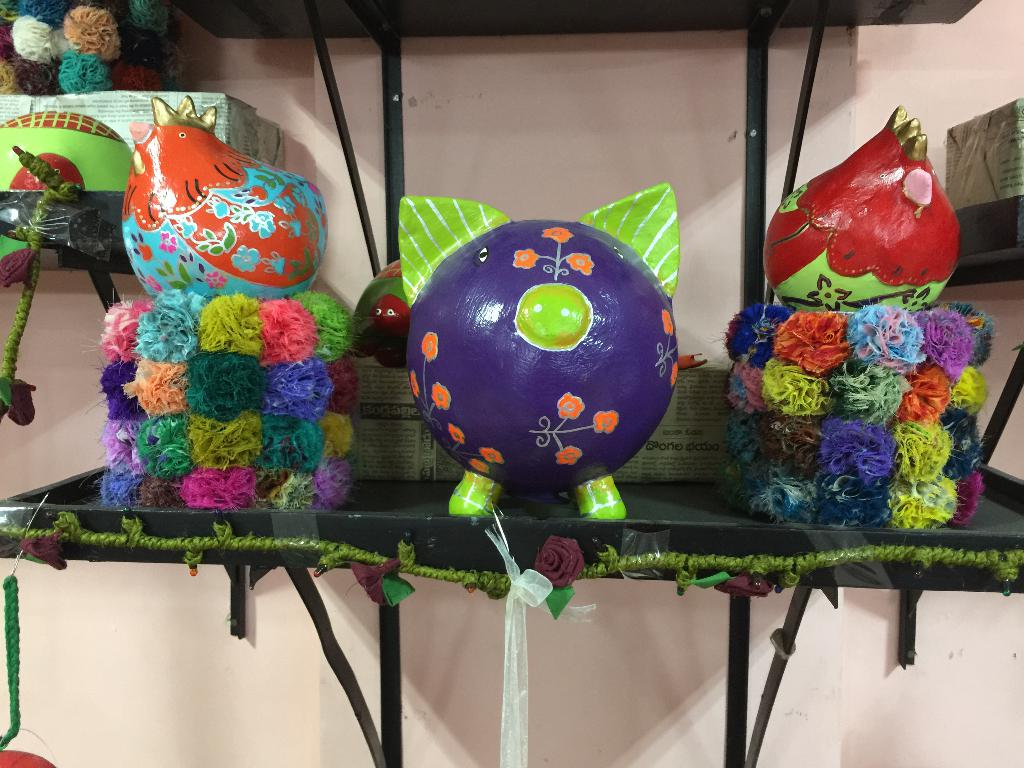Ball: (409, 220, 677, 494)
